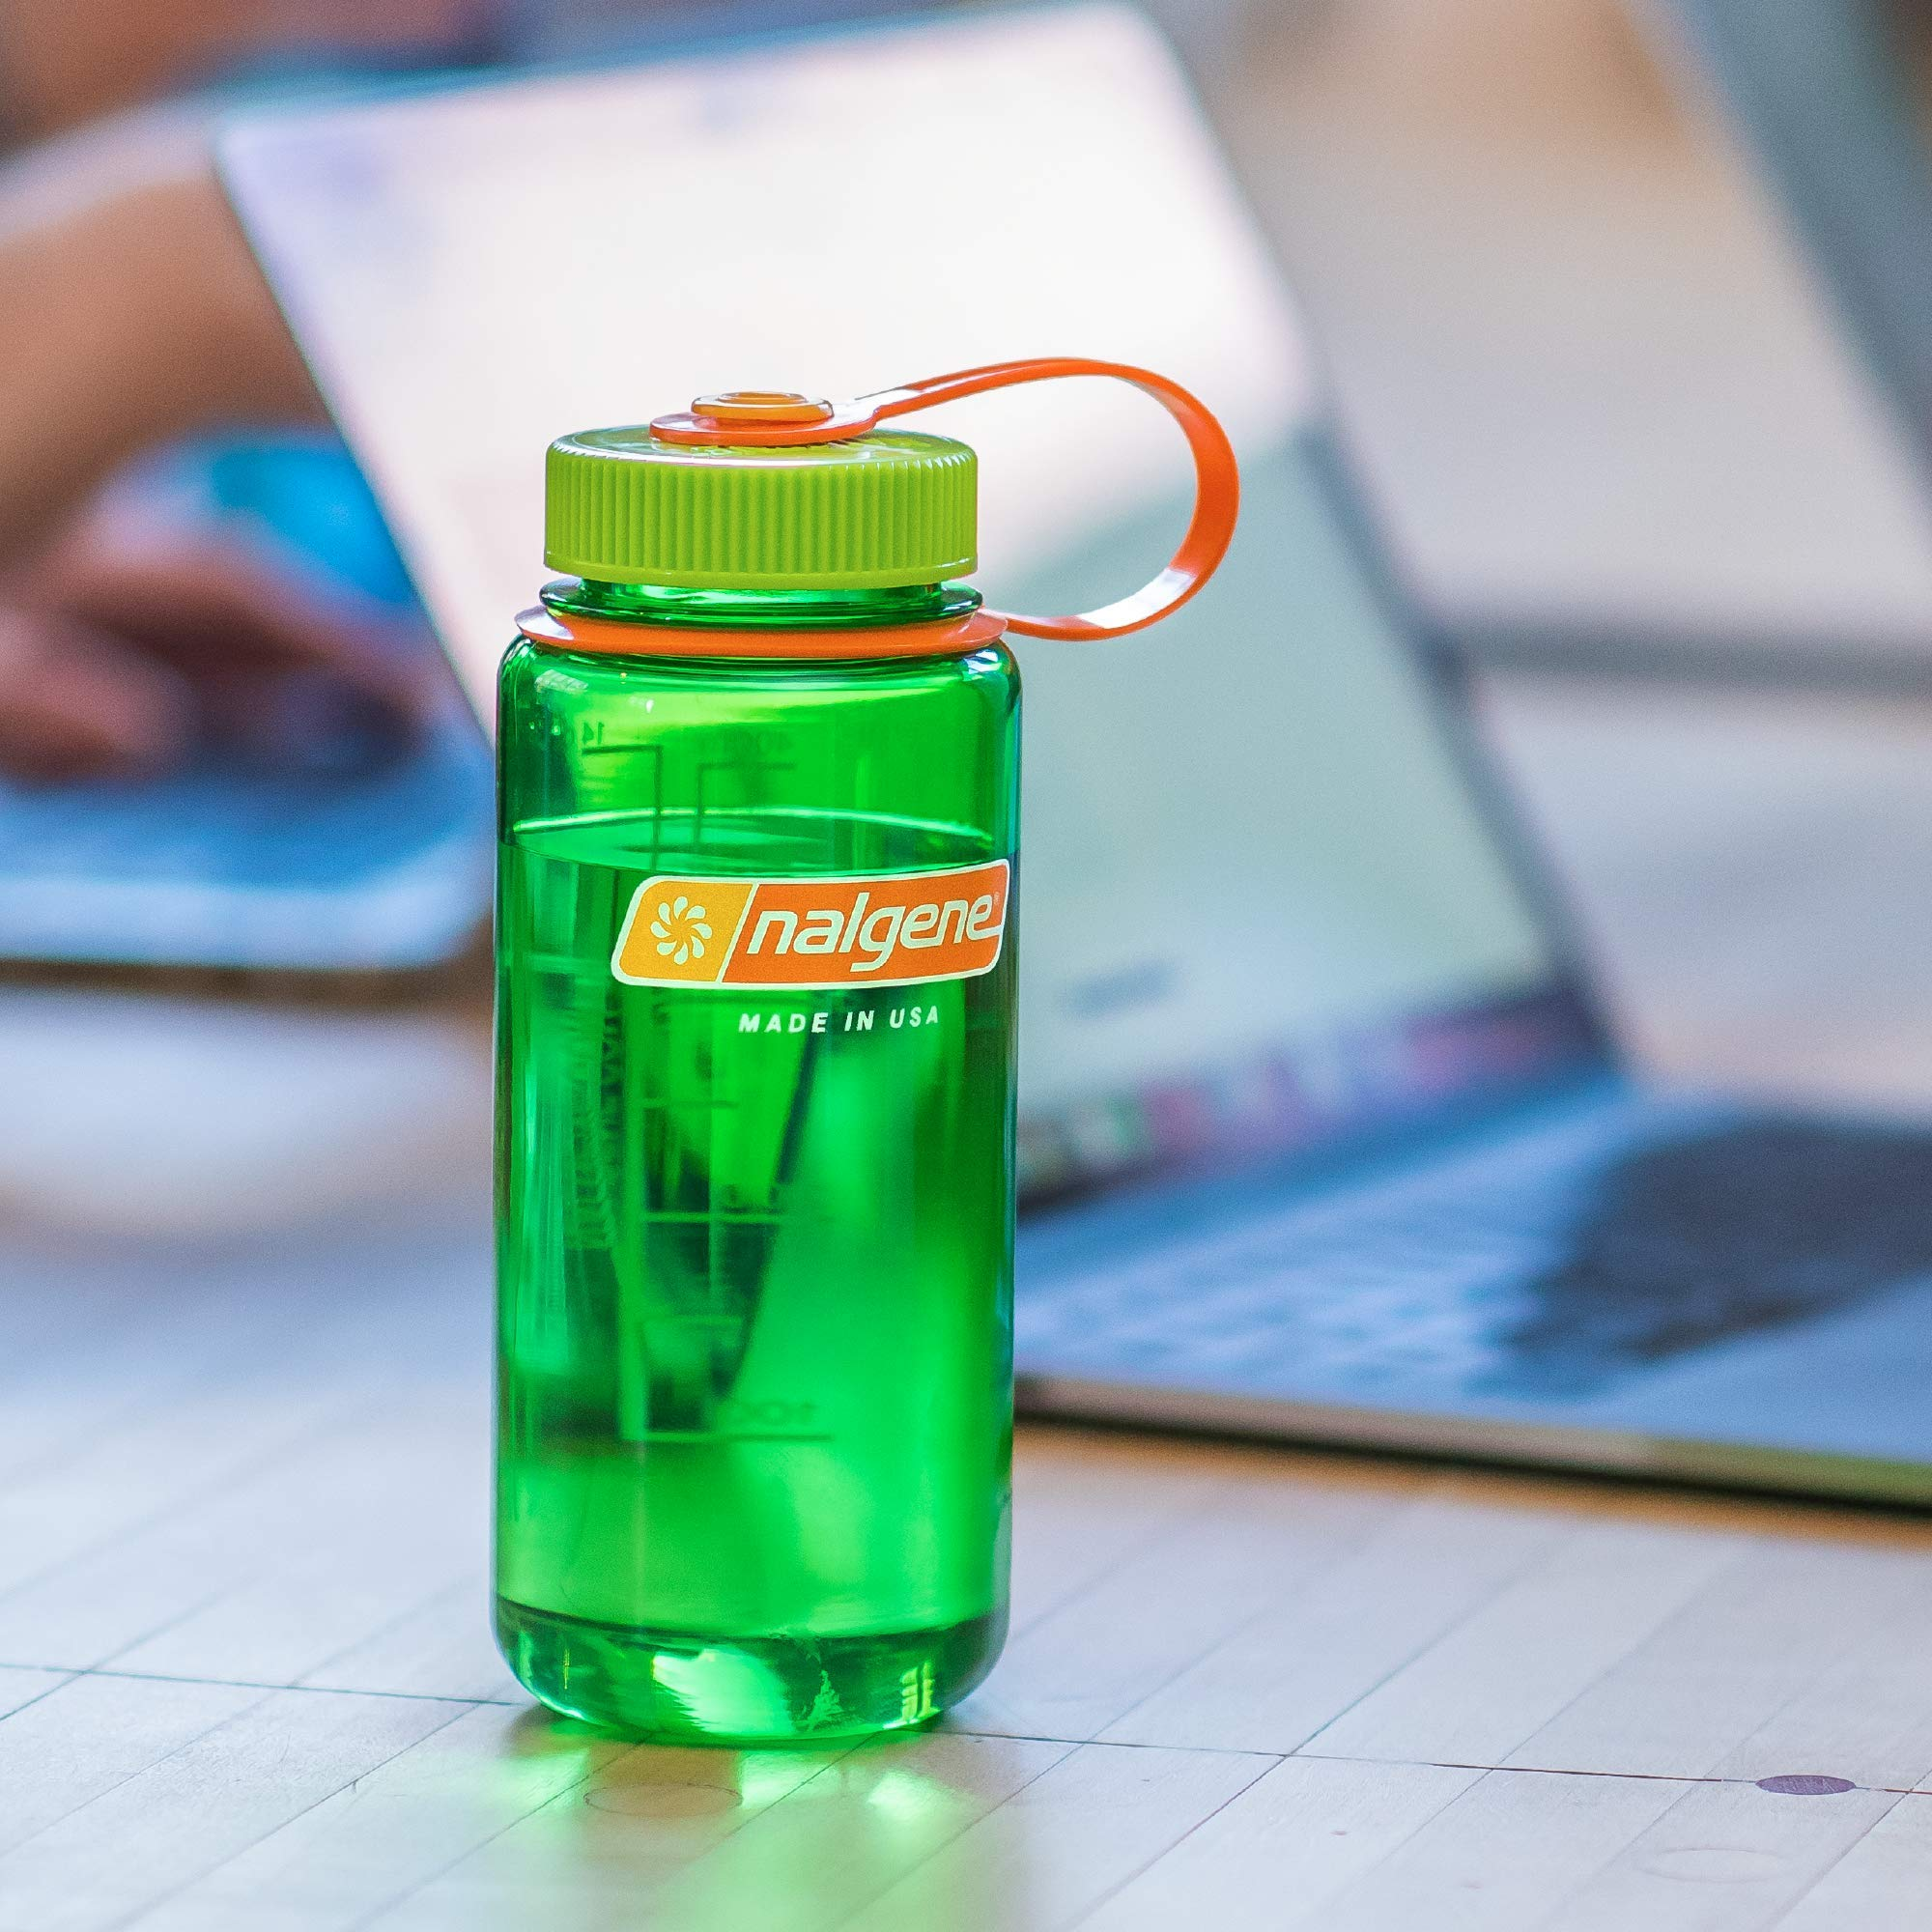waterbottle: (485, 349, 1247, 1757)
